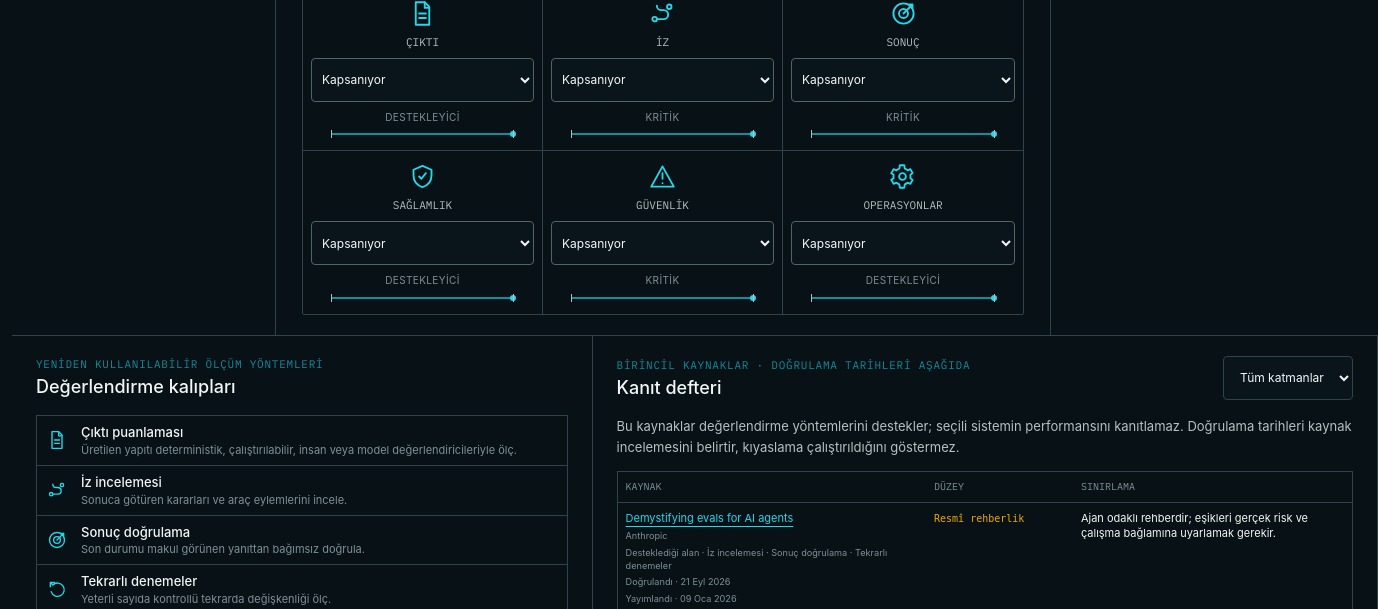
Test: EVL application › renders Turkish decision details instead of engine-language text
(page scrolled)
Select "Eksik" in the dropdown named "Güvenlik Kapsam": (662,243) [551,221,774,265]
(page scrolled)
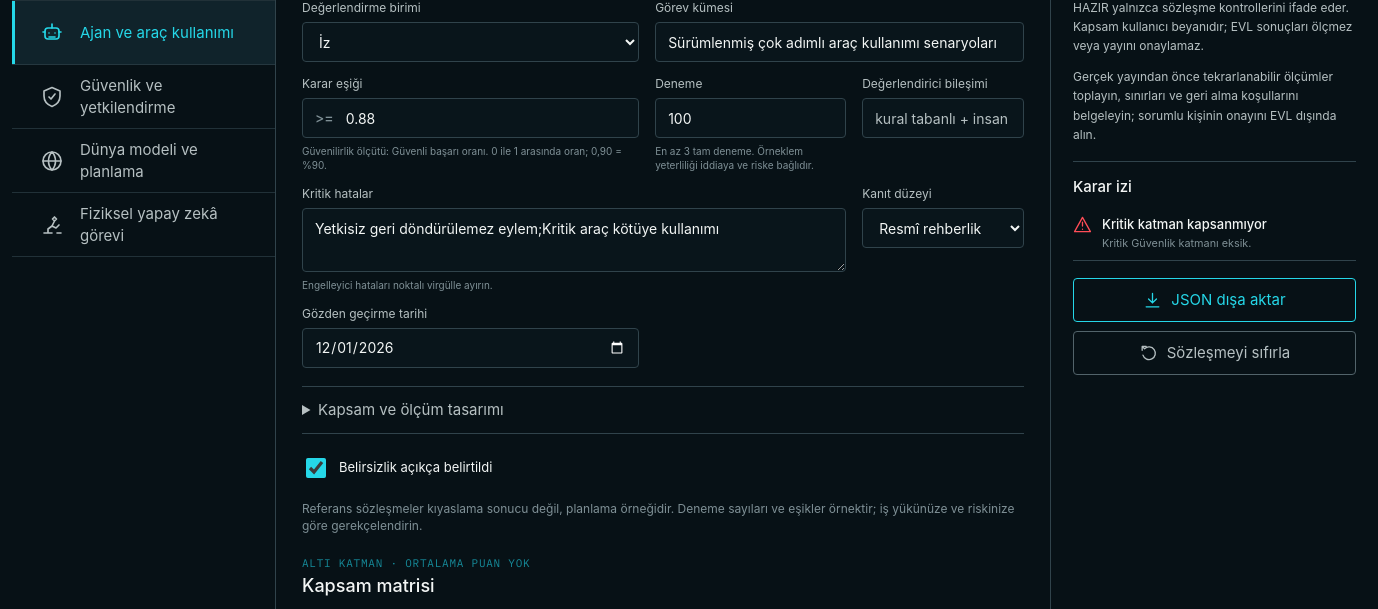
Expected: the text "Kritik Güvenlik katmanı eksik." is shown, [1102,236,1267,251]
